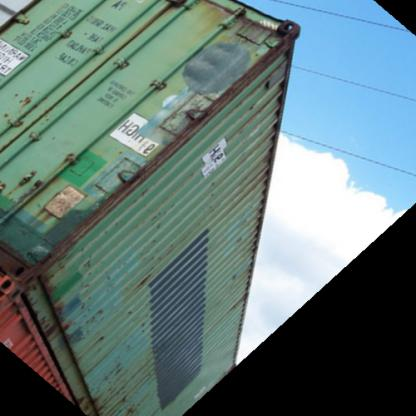Damage: (141, 19, 307, 169), (12, 169, 140, 276)
